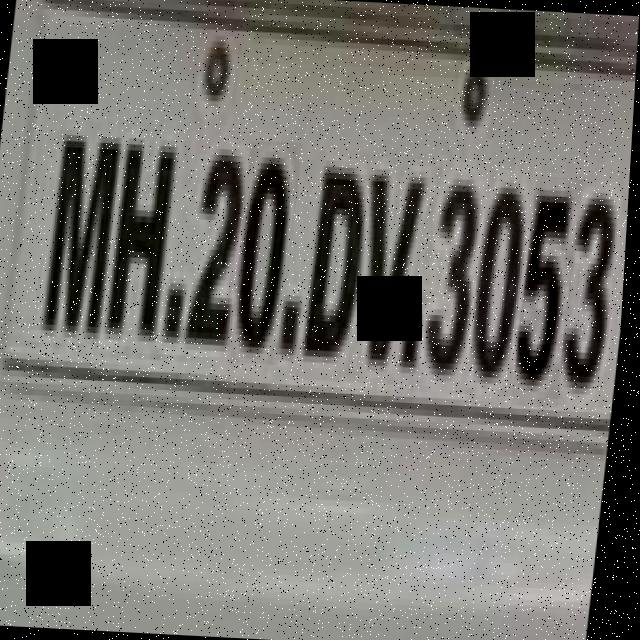0: (231, 142, 305, 366), (469, 168, 537, 389)
3: (422, 158, 493, 399), (558, 179, 630, 415)
5: (517, 176, 585, 408)
D: (299, 152, 378, 386)
H: (104, 122, 187, 353)
M: (40, 120, 128, 348)
V: (350, 154, 434, 401)
